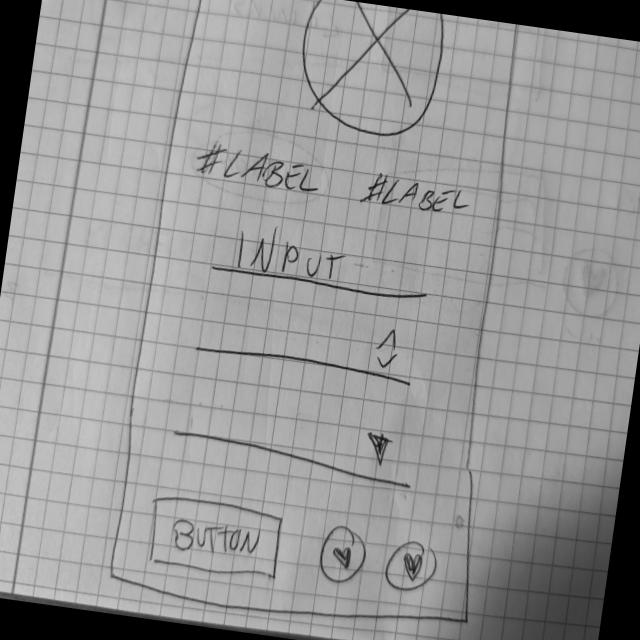button: (144, 488, 288, 585)
container: (95, 0, 553, 640)
icon-button: (313, 520, 373, 588), (380, 535, 442, 598)
image: (289, 0, 450, 148)
input: (208, 218, 435, 306)
label: (190, 136, 326, 198), (361, 167, 475, 221)
number-input: (190, 298, 420, 390)
select: (164, 396, 420, 496)
